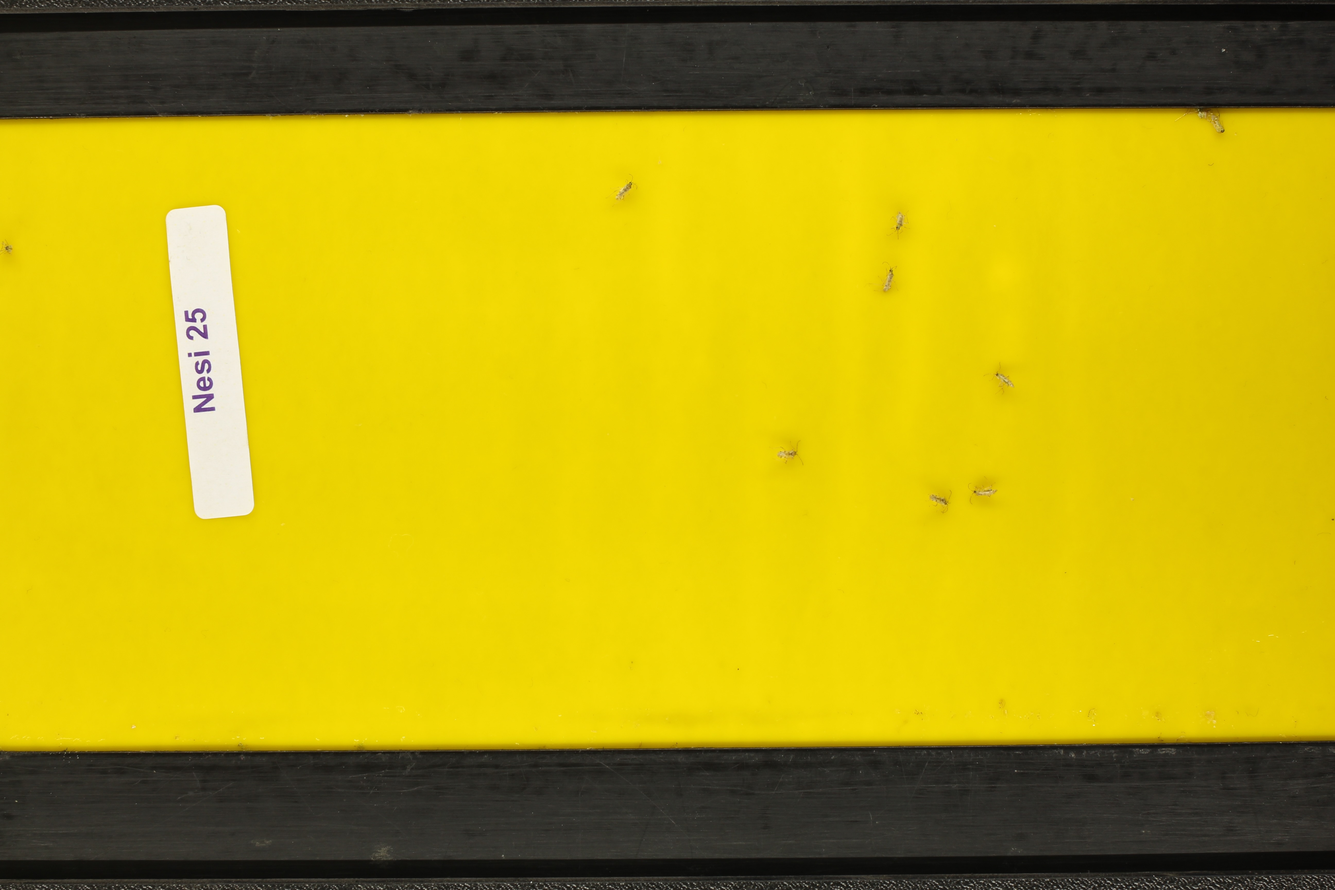NC: (871, 256, 904, 303), (1194, 104, 1236, 138), (607, 170, 642, 208), (982, 360, 1017, 398), (774, 437, 807, 469), (966, 476, 998, 506), (924, 487, 954, 515), (890, 210, 912, 242)
